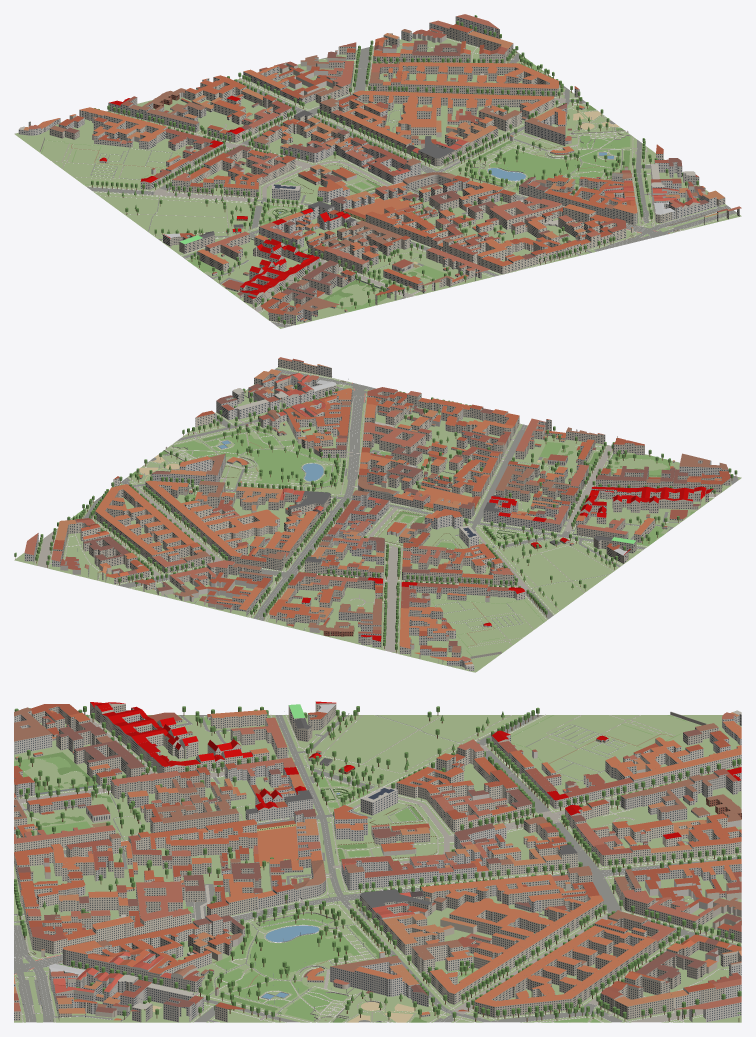
3 views of the same model, one above another, from view 1: azimuth 30°, elevation 25°; view 2: azimuth 150°, elevation 25°; view 3: azimuth 270°, elevation 25° (orthographic). The views are drawn at different scales.
Size of the model in its own units: 750 by 20.18 by 750.
Materials: 3 (1 with a texture image).
